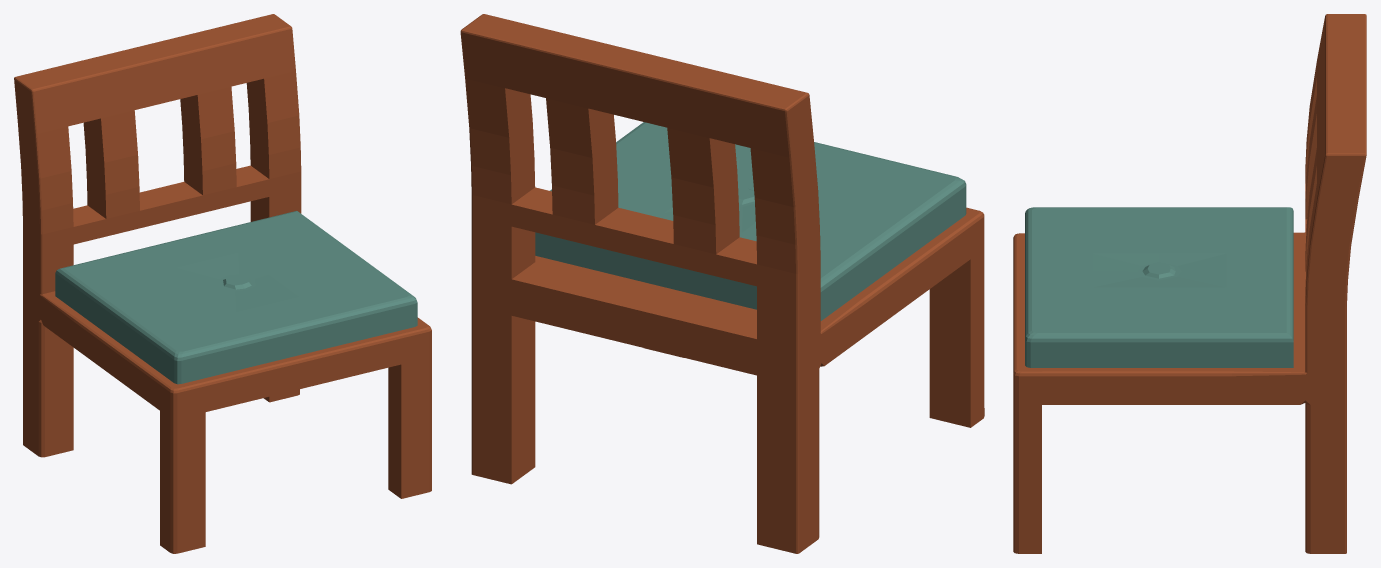
File: japan_chair.fbx
The picture shows the model from 3 angles, left to right: view 1: azimuth 30°, elevation 25°; view 2: azimuth 150°, elevation 25°; view 3: azimuth 270°, elevation 25°; orthographic projection. The views are drawn at different scales.
Visible parts, largest first — view 1: chair; view 2: chair; view 3: chair.
Part boxes in pixels (x1=…): chair: x1=14, y1=14, x2=431, y2=553; chair: x1=460, y1=14, x2=984, y2=553; chair: x1=1013, y1=14, x2=1366, y2=553.
Size of the model in its own units: 51.57 by 68.2 by 54.63.
